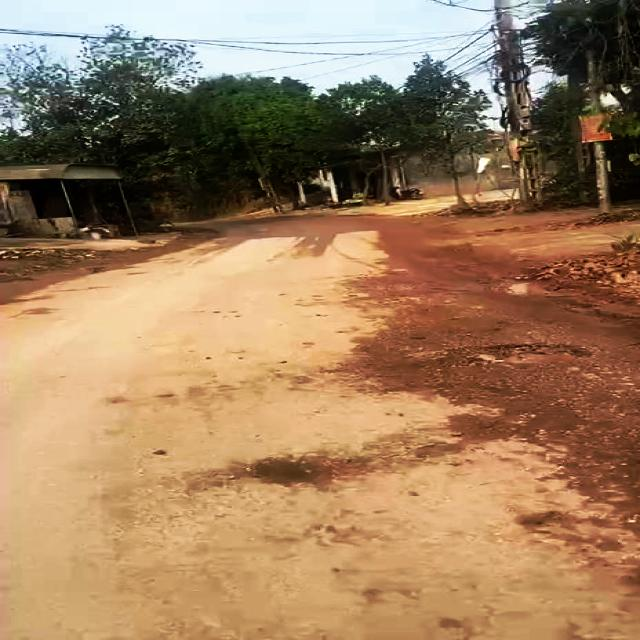pothole: (424, 340, 598, 368), (255, 452, 344, 491)
